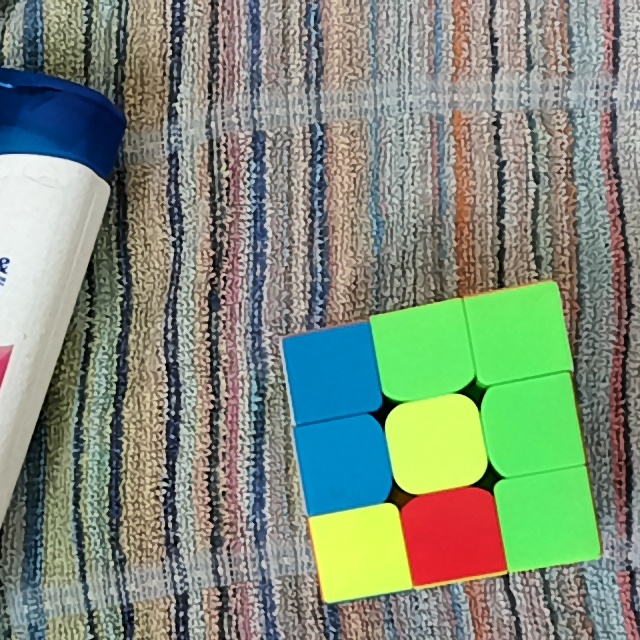tile: (512, 481, 587, 558), (480, 297, 556, 371), (500, 387, 572, 462), (387, 315, 463, 386), (292, 338, 371, 406), (307, 428, 380, 501), (402, 408, 475, 478), (419, 499, 487, 572), (325, 518, 397, 586)
